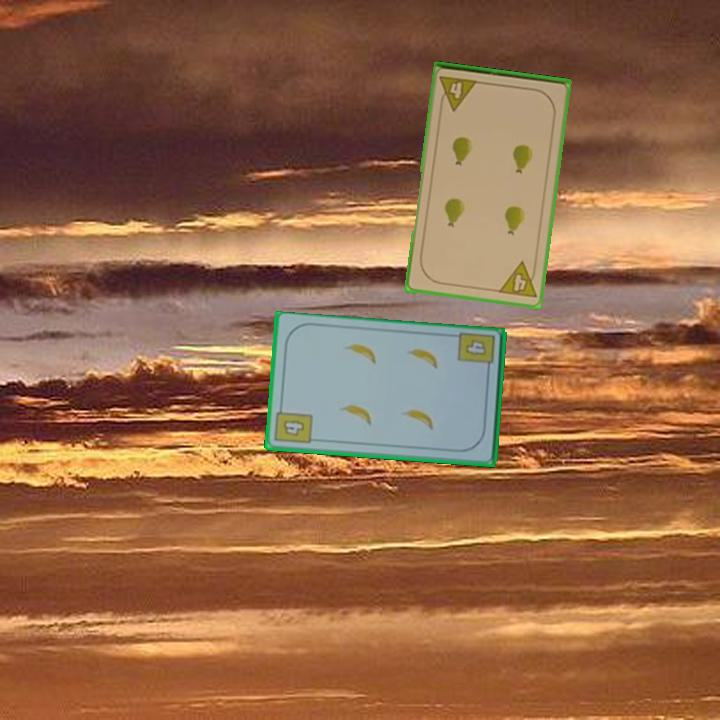4b: (455, 329, 498, 376), (271, 402, 315, 447)
4p: (495, 258, 540, 301), (436, 72, 481, 113)
